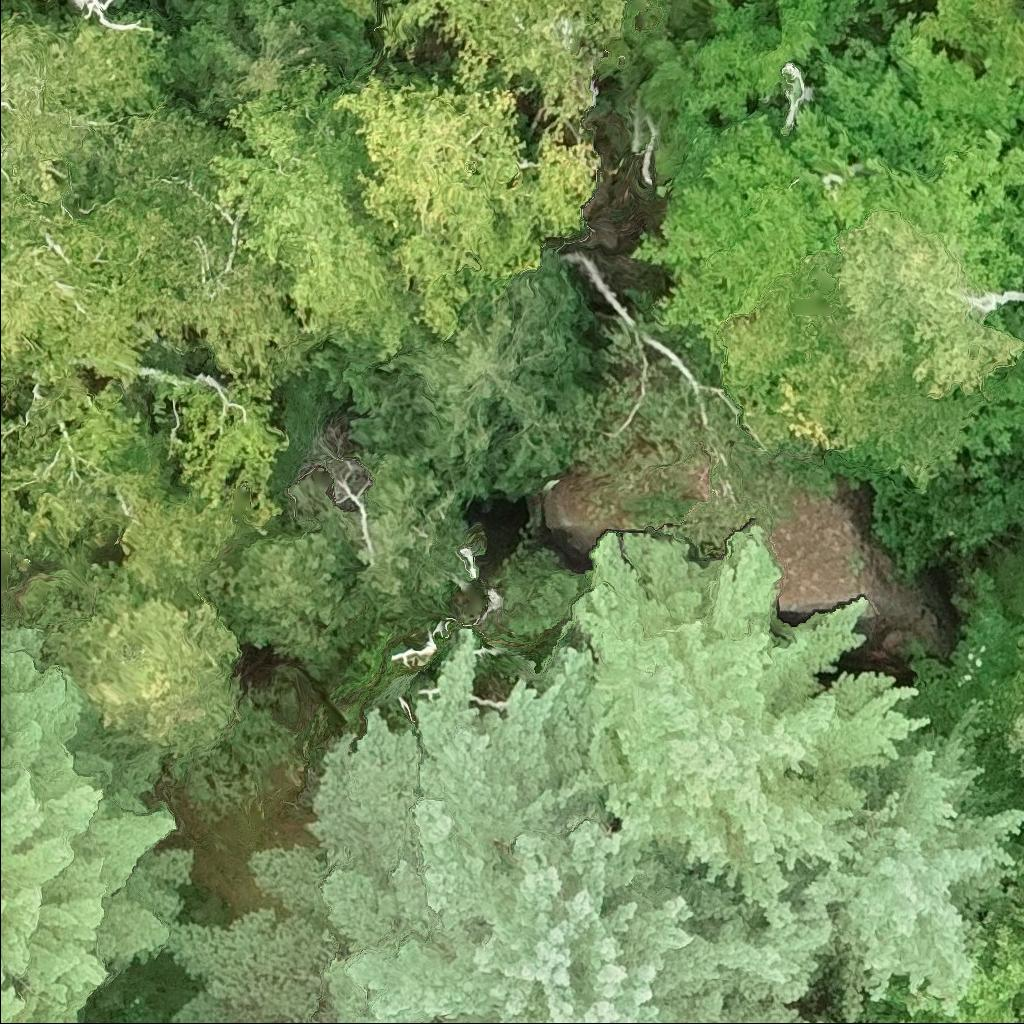crown: (159, 626, 844, 1023), (574, 524, 938, 914), (0, 617, 200, 1023), (799, 696, 1023, 1023), (17, 560, 240, 786), (0, 978, 63, 1023), (1008, 701, 1023, 783), (1020, 1000, 1023, 1023), (851, 1021, 862, 1023)
